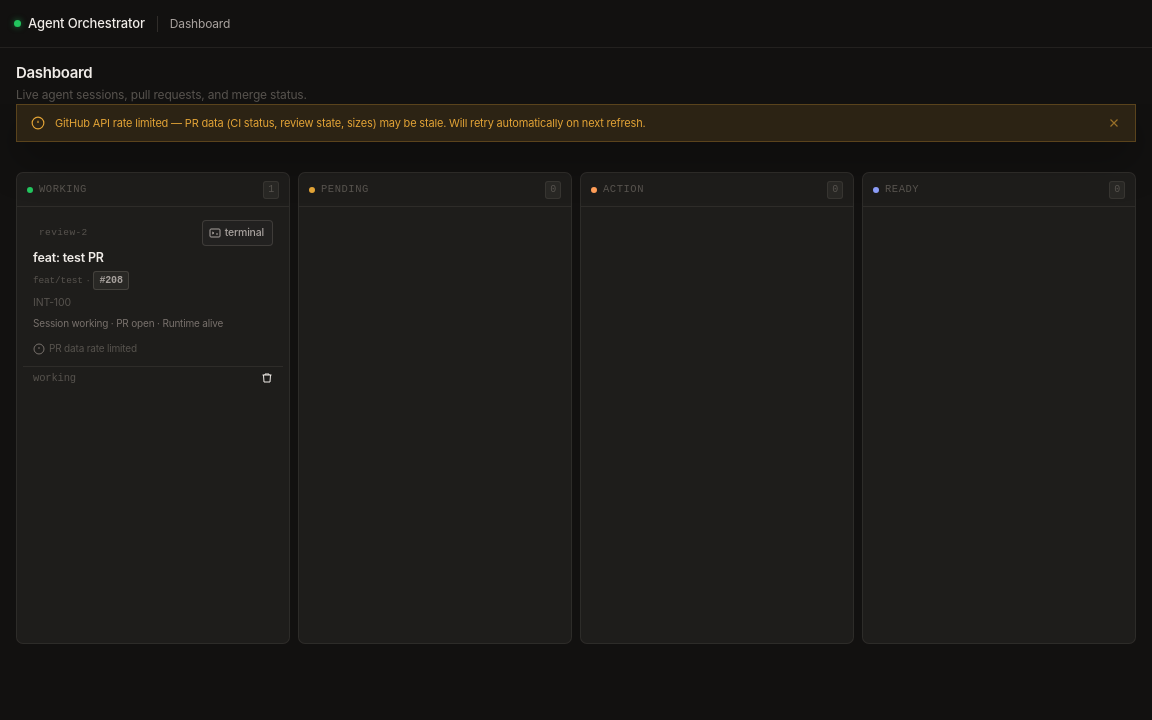
Scenario: Dashboard unified layout (mobile viewport) › shows and dismisses the rate limit banner
This screenshot has width=1152, height=720.
Expected: the text "GitHub API rate limited" is shown, 55,116 -> 646,130
Click the button named "Dismiss".
click(1114, 123)  # box 1107,116 -> 1121,130
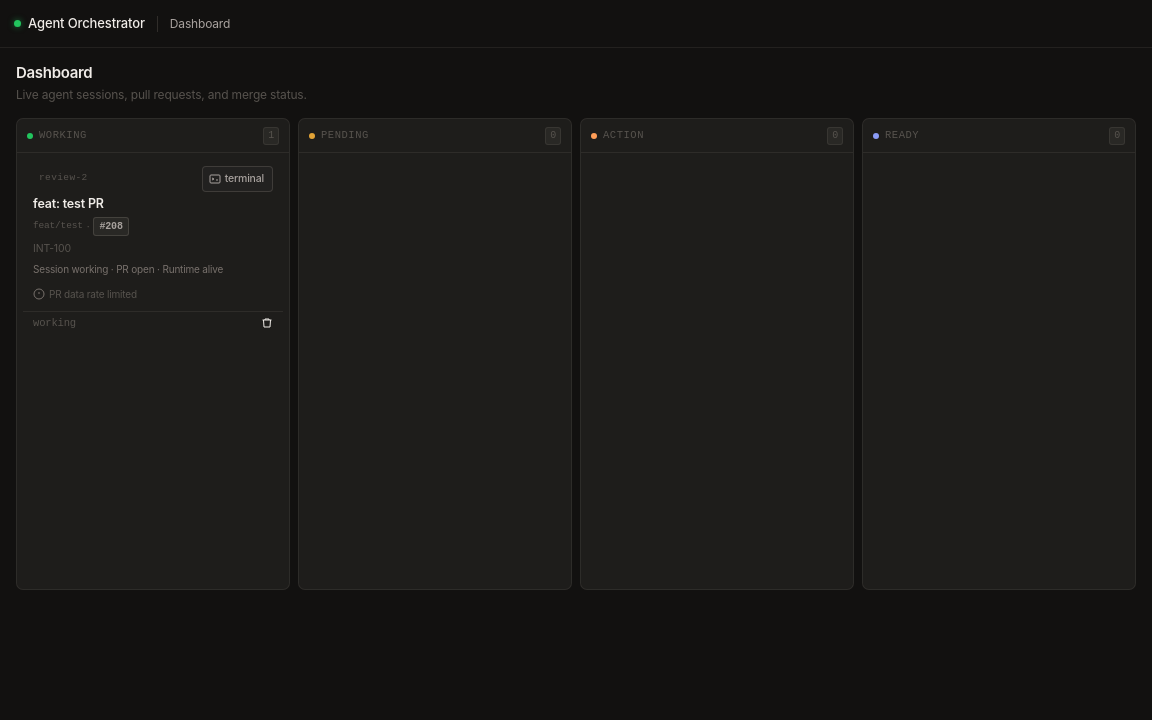
Expected: the text "GitHub API rate limited" is gone
